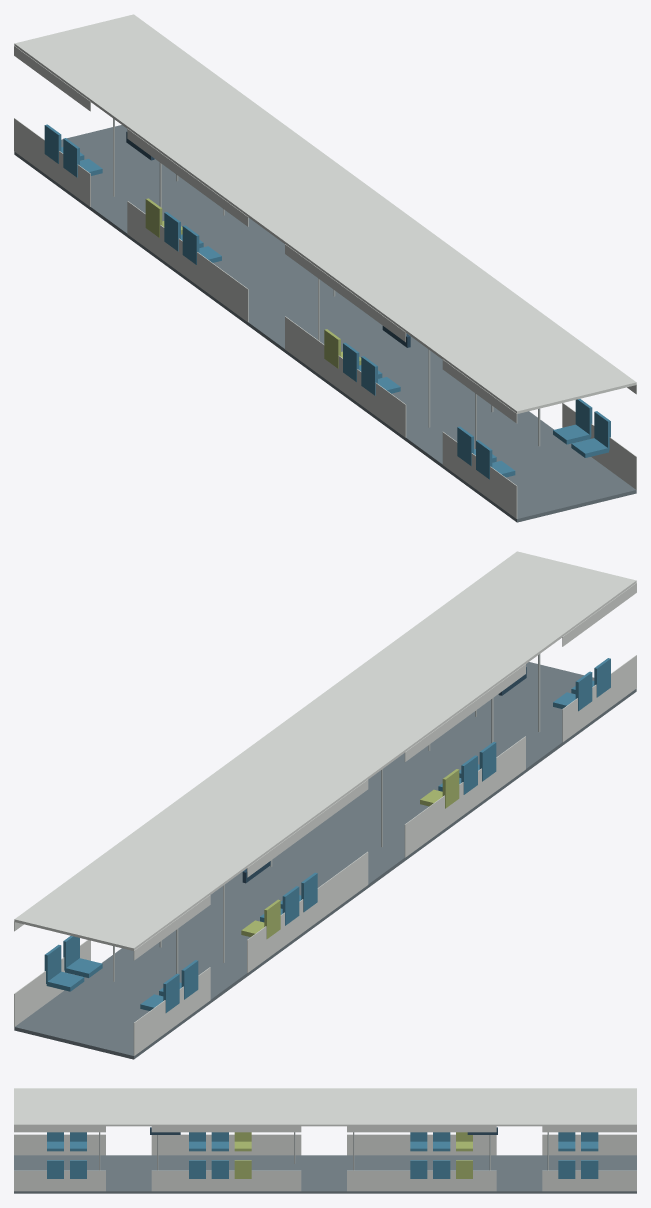
File: canada-line-shared-interior.lod1.glb
The picture shows the model from 3 angles, top to bottom: view 1: azimuth 30°, elevation 25°; view 2: azimuth 150°, elevation 25°; view 3: azimuth 270°, elevation 25°; orthographic projection. The views are drawn at different scales.
Parts seen in each view (by area): view 1: interior-batch-canada-wall, interior-batch-canada-floor, interior-batch-canada-seat, interior-batch-canada-priority, interior-batch-canada-rail; view 2: interior-batch-canada-wall, interior-batch-canada-floor, interior-batch-canada-seat, interior-batch-canada-priority, interior-batch-canada-rail; view 3: interior-batch-canada-wall, interior-batch-canada-floor, interior-batch-canada-seat, interior-batch-canada-priority, interior-batch-canada-rail, interior-batch-canada-sign.
Part boxes in pixels (x1,y1,x2,y2): interior-batch-canada-wall: (14, 14, 636, 518); interior-batch-canada-floor: (14, 125, 636, 522); interior-batch-canada-seat: (44, 124, 610, 479); interior-batch-canada-priority: (145, 198, 361, 368); interior-batch-canada-rail: (113, 118, 540, 448); interior-batch-canada-wall: (14, 551, 636, 1055); interior-batch-canada-floor: (14, 662, 636, 1059); interior-batch-canada-seat: (44, 658, 610, 1012); interior-batch-canada-priority: (241, 769, 459, 938); interior-batch-canada-rail: (113, 654, 540, 981); interior-batch-canada-wall: (14, 1088, 636, 1191); interior-batch-canada-floor: (14, 1155, 636, 1193); interior-batch-canada-seat: (47, 1132, 598, 1178); interior-batch-canada-priority: (234, 1132, 472, 1178); interior-batch-canada-rail: (99, 1132, 548, 1170); interior-batch-canada-sign: (150, 1127, 497, 1134).
Size of the model in its own units: 2.84 by 2.49 by 20.41.
